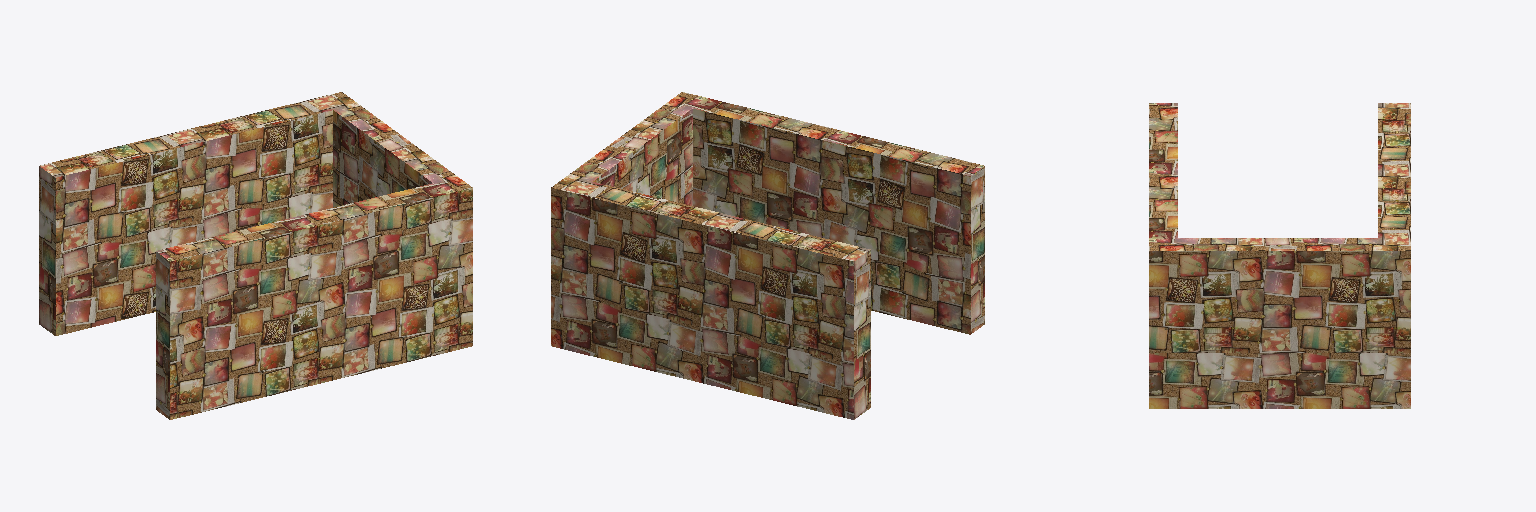
The picture shows the model from 3 angles: view 1: azimuth 30°, elevation 25°; view 2: azimuth 150°, elevation 25°; view 3: azimuth 270°, elevation 25°; orthographic projection.
Visible parts, largest first — view 1: Plane; view 2: Plane; view 3: Plane.
Part boxes in pixels (x1,y1,x2,y2): Plane: (39, 92, 472, 419); Plane: (551, 92, 984, 419); Plane: (1149, 103, 1410, 408).
Bounding box in the file's own units: 6 × 3 × 4.5.
1 materials, 1 textured.